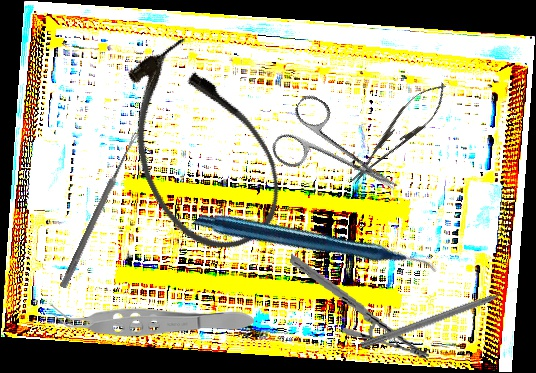Cannula: (97, 25, 302, 272)
Handpiece: (192, 122, 438, 371)
Hook Surgical: (359, 284, 521, 352)
Iris Scissors: (267, 90, 414, 222)
Needle Holder: (279, 253, 440, 363), (341, 73, 456, 193)
Surgical Spoon: (59, 130, 140, 290)
Tissue Forceps: (49, 303, 254, 337)
